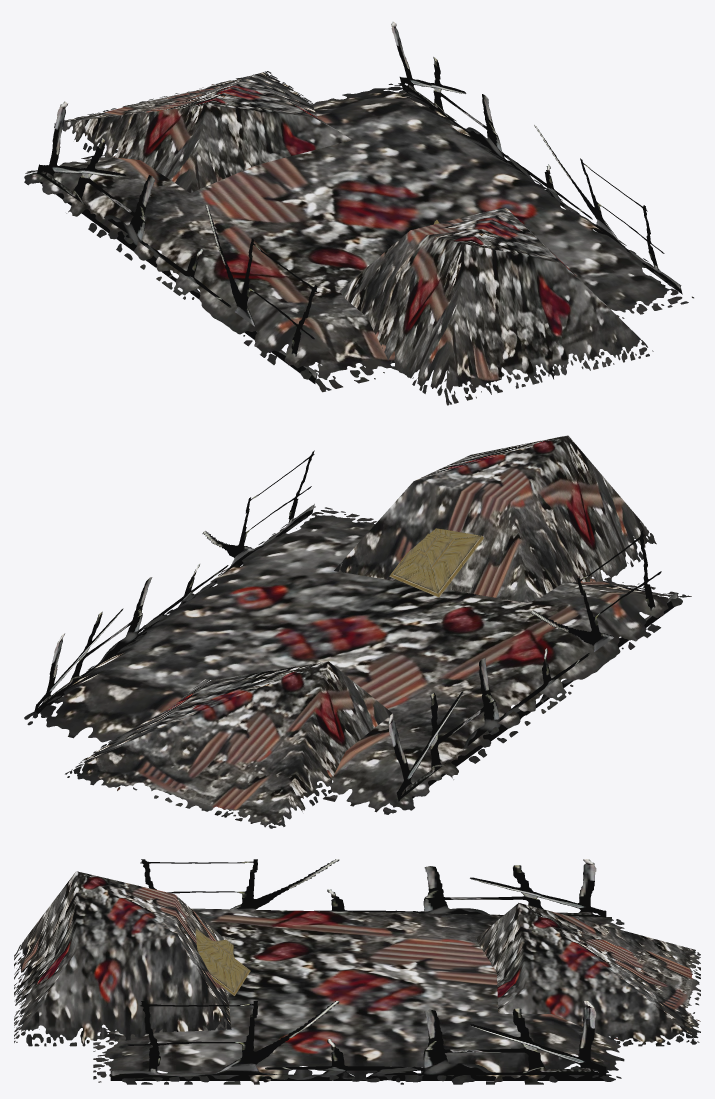
The model's file is l_guardhouse_dam_hdtex.glb.
3 views of the same model, one above another, from view 1: azimuth 30°, elevation 25°; view 2: azimuth 150°, elevation 25°; view 3: azimuth 270°, elevation 25° (orthographic). The views are drawn at different scales.
Parts seen in each view (by area): view 1: gaurdhouseDAM; view 2: gaurdhouseDAM; view 3: gaurdhouseDAM.
Part boxes in pixels (x1,y1,x2,y2): gaurdhouseDAM: (24,21,693,405); gaurdhouseDAM: (24,435,691,828); gaurdhouseDAM: (14,859,700,1084).
Bounding box in the file's own units: 19.64 × 5.9 × 34.07.
Materials: 3 (3 with a texture image).
